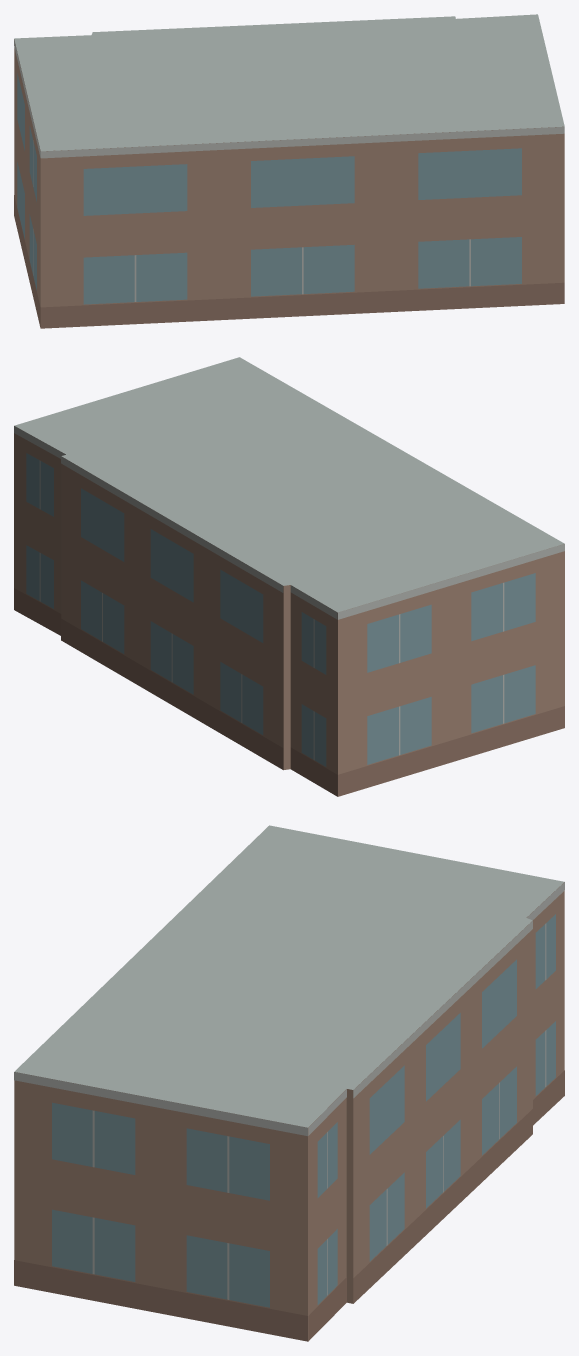
File: survey-upis-32567324.glb
The picture shows the model from 3 angles, top to bottom: view 1: azimuth 30°, elevation 25°; view 2: azimuth 150°, elevation 25°; view 3: azimuth 270°, elevation 25°; orthographic projection. The views are drawn at different scales.
Parts seen in each view (by area): view 1: survey-upis-32567324.tmp; view 2: survey-upis-32567324.tmp; view 3: survey-upis-32567324.tmp.
Part boxes in pixels (left/top/right/bottom): survey-upis-32567324.tmp: left=14, top=14, right=564, bottom=328; survey-upis-32567324.tmp: left=14, top=357, right=564, bottom=796; survey-upis-32567324.tmp: left=14, top=825, right=564, bottom=1341.
Size of the model in its own units: 18.51 by 6.1 by 14.24.
